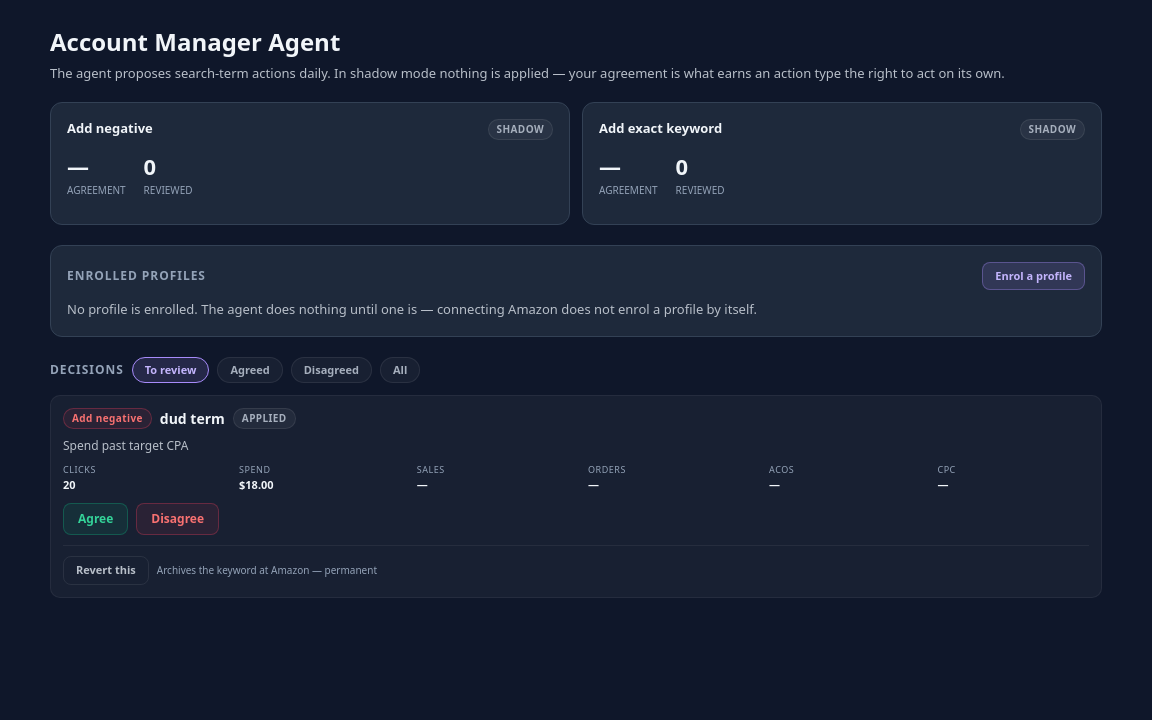
performing a revert › surfaces a refusal rather than pretending it worked
Expected: the text "dud term" is shown, x1=160 y1=408 x2=225 y2=429
Click the button "Revert this": [106, 570] box x1=63 y1=556 x2=149 y2=584
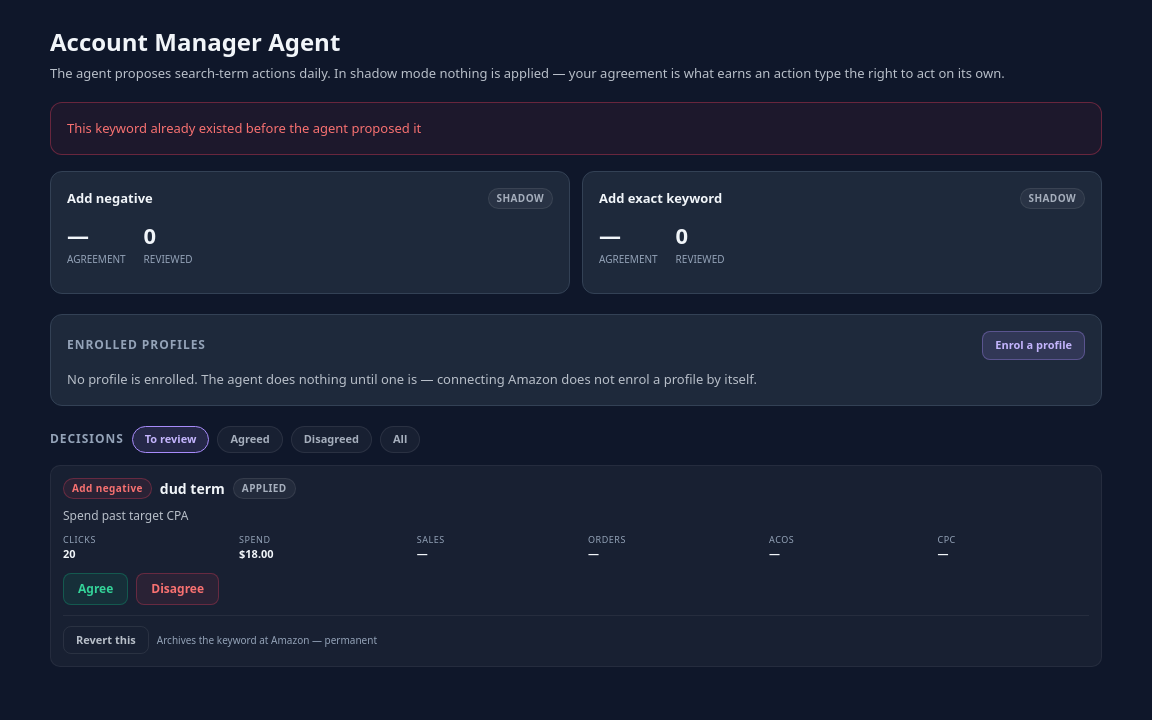
Result: the text "This keyword already existed before the agent proposed it" is shown at x1=67 y1=118 x2=421 y2=136
